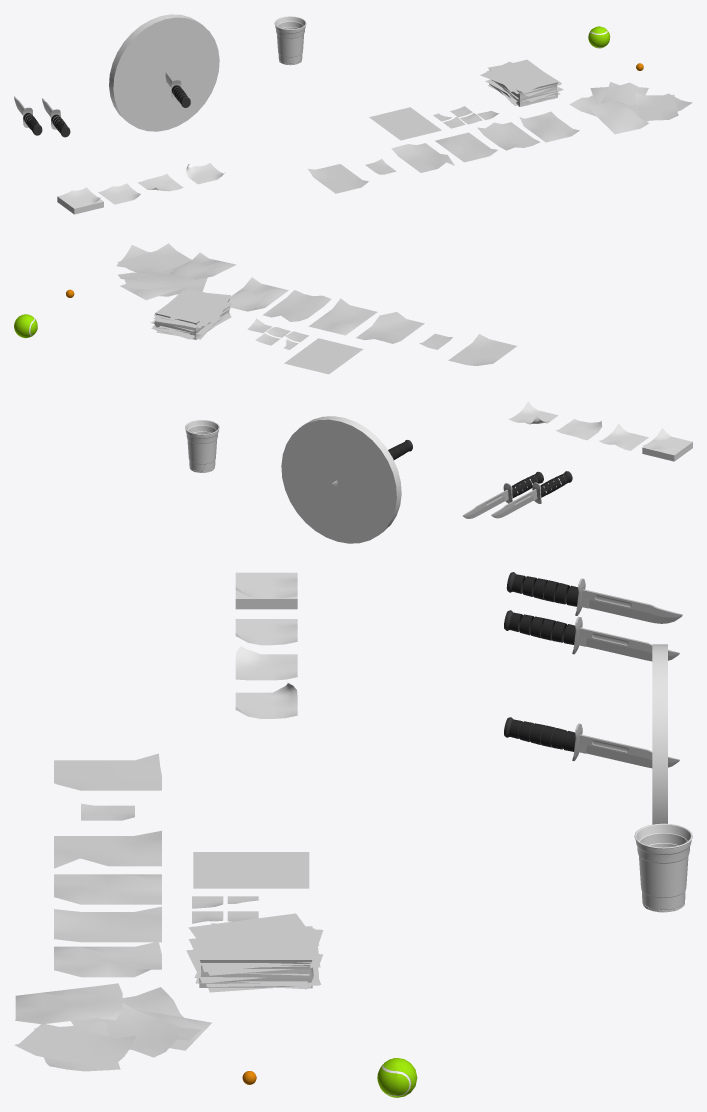
File: mydarts copy.fbx
3 renders of one model, top to bottom at view 1: azimuth 30°, elevation 25°; view 2: azimuth 150°, elevation 25°; view 3: azimuth 270°, elevation 25°, orthographic. The views are drawn at different scales.
Visible parts, largest first — view 1: Object_5, SM_PapersCluster_7, SM_PaperStack_13, SM_FlatPaper_0, pCylinder1, SM_Papers_03_3, SM_Papers_04_4, SM_Papers_05_5, SM_Papers_06_6, SM_Papers_01_1, SM_post_it_notes.001_3, SM_post_it_notes.003_5 (+4 smaller); view 2: Object_5, SM_PapersCluster_7, SM_PaperStack_13, SM_FlatPaper_0, pCylinder1, SM_Papers_04_4, SM_Papers_03_3, SM_Papers_05_5, SM_Papers_01_1, SM_Papers_06_6, SM_post_it_notes.001_3, SM_post_it_notes_2 (+5 smaller); view 3: SM_PapersCluster_7, SM_PaperStack_13, SM_FlatPaper_0, pCylinder1, SM_Papers_05_5, SM_Papers_01_1, SM_Papers_04_4, SM_Papers_06_6, SM_Papers_03_3, Object_5, Object_3.002, SM_post_it_notes.002_4 (+11 smaller).
Part boxes in pixels (box(x1,y1,x2,y2)): Object_5: box(109, 14, 219, 131); SM_PapersCluster_7: box(569, 82, 692, 134); SM_PaperStack_13: box(480, 59, 563, 106); SM_FlatPaper_0: box(369, 107, 441, 140); pCylinder1: box(274, 16, 306, 65); SM_Papers_03_3: box(391, 143, 454, 172); SM_Papers_04_4: box(435, 132, 497, 162); SM_Papers_05_5: box(477, 122, 540, 150); SM_Papers_06_6: box(519, 111, 579, 142); SM_Papers_01_1: box(308, 164, 368, 193); SM_post_it_notes.001_3: box(57, 194, 103, 214); SM_post_it_notes.003_5: box(186, 163, 225, 184); Object_5: box(281, 416, 401, 543); SM_PapersCluster_7: box(116, 243, 236, 300); SM_PaperStack_13: box(150, 288, 232, 339); SM_FlatPaper_0: box(284, 338, 363, 374); pCylinder1: box(185, 420, 219, 472); SM_Papers_04_4: box(308, 298, 377, 335); SM_Papers_03_3: box(356, 312, 424, 343); SM_Papers_05_5: box(263, 290, 331, 321); SM_Papers_01_1: box(448, 334, 516, 365); SM_Papers_06_6: box(229, 277, 288, 311); SM_post_it_notes.001_3: box(642, 436, 692, 461); SM_post_it_notes_2: box(599, 423, 648, 450); SM_PapersCluster_7: box(14, 983, 211, 1071); SM_PaperStack_13: box(186, 913, 323, 992); SM_FlatPaper_0: box(193, 852, 309, 888); pCylinder1: box(634, 823, 692, 912); SM_Papers_05_5: box(54, 906, 161, 942); SM_Papers_01_1: box(54, 753, 161, 790); SM_Papers_04_4: box(54, 874, 161, 904); SM_Papers_06_6: box(54, 941, 161, 977); SM_Papers_03_3: box(54, 830, 161, 868); Object_5: box(652, 644, 667, 824); Object_3.002: box(575, 578, 682, 623); SM_post_it_notes.002_4: box(235, 646, 297, 680).
Size of the model in its own units: 1264 by 232 by 706.
